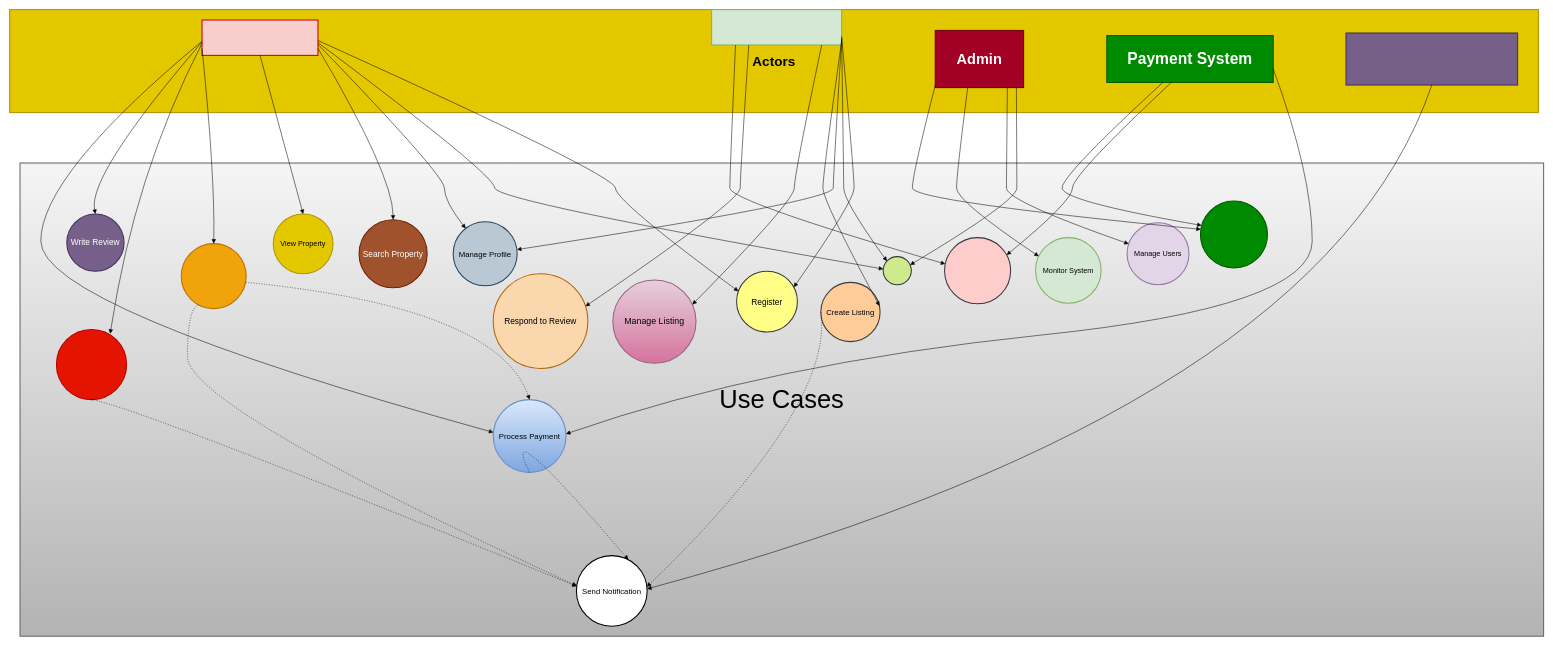
Image size: 1553x645. Some labels were removed from this diagram. The centre of each missing label's shape, as x and y in pixels:
"Create Booking" belongs at (213,276).
"GUEST" belongs at (259,37).
"Host" belongs at (776,27).
"Login" belongs at (897,270).
"Manage Booking" belongs at (91,364).
"Manage Refund" belongs at (1234,234).
"Notification System" belongs at (1431,58).
"Process Payout" belongs at (977,270).
